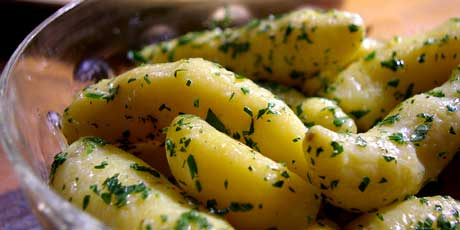boiled potatoes: (71, 32, 458, 229)
